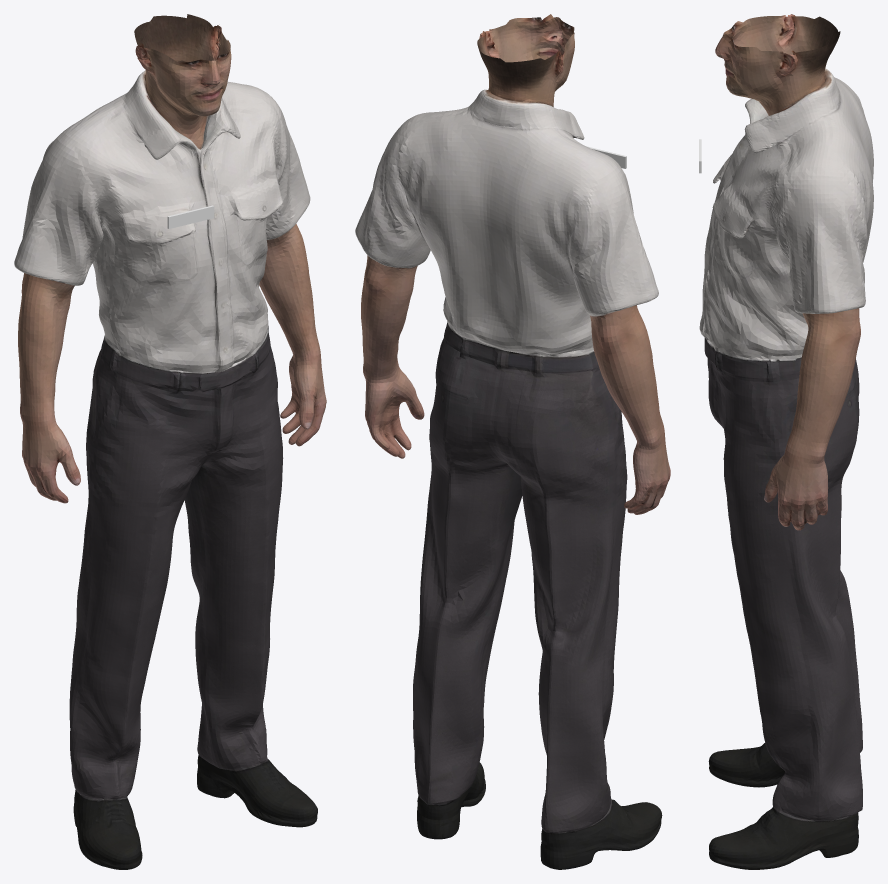
Rendered from male_apose.glb.
3 renders of one model, left to right at view 1: azimuth 30°, elevation 25°; view 2: azimuth 150°, elevation 25°; view 3: azimuth 270°, elevation 25°, orthographic.
Visible parts, largest first — view 1: body, feet, name_tag; view 2: body, feet; view 3: body, feet.
Part boxes in pixels (x1,y1,x2,y2): body: (14,14,326,800); feet: (73,744,317,869); name_tag: (167,205,214,228); body: (355,14,670,825); feet: (417,762,662,869); body: (699,14,873,818); feet: (708,743,862,869).
Size of the model in its own units: 0.6482 by 1.66 by 0.334.
Materials: 2 (2 with a texture image).
